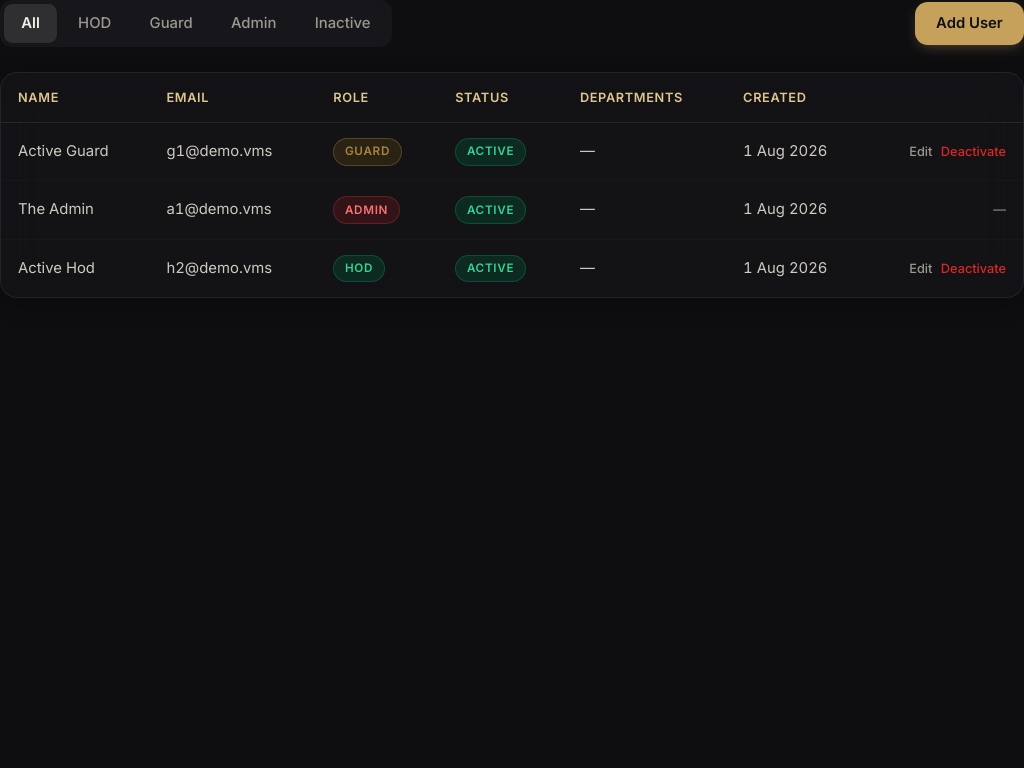
Test case: UsersTab — an inactive row always offers Reactivate › a legacy staff row offers Reactivate too, and it asks which role
Expected: the text "Active Guard" is shown, [1,123,149,181]
Click the button "Inactive" at (343, 23), box [298,4,388,43]
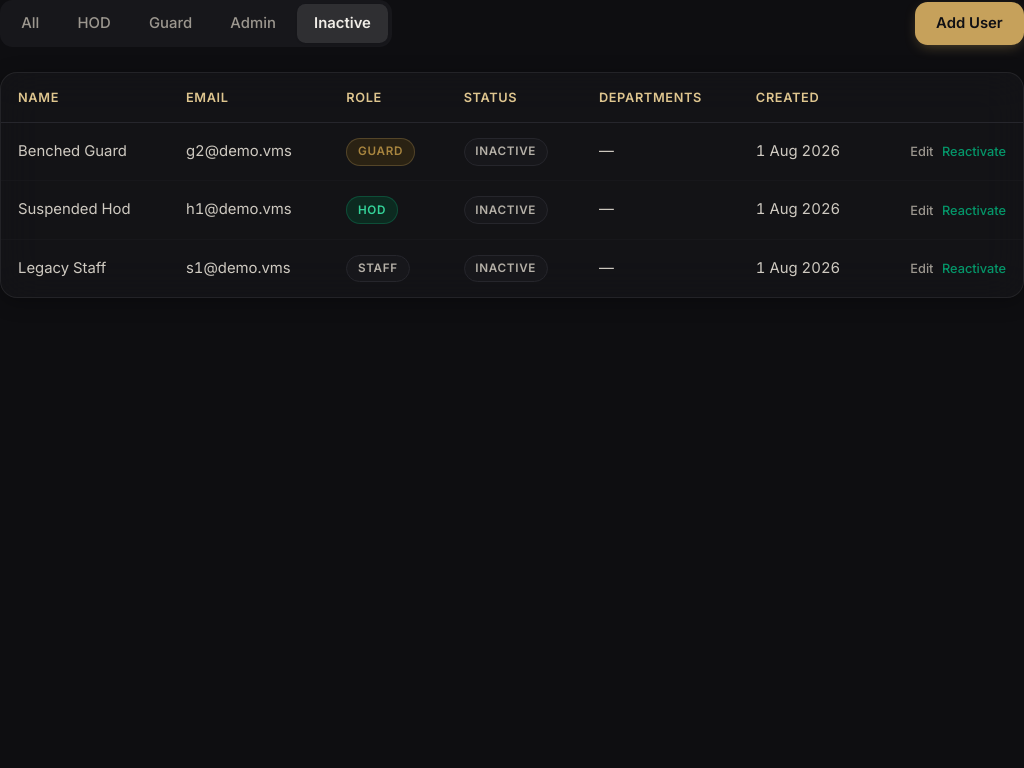
Click the button "Reactivate" in the row of "Legacy Staff" at (974, 268), box [942,260,1006,277]
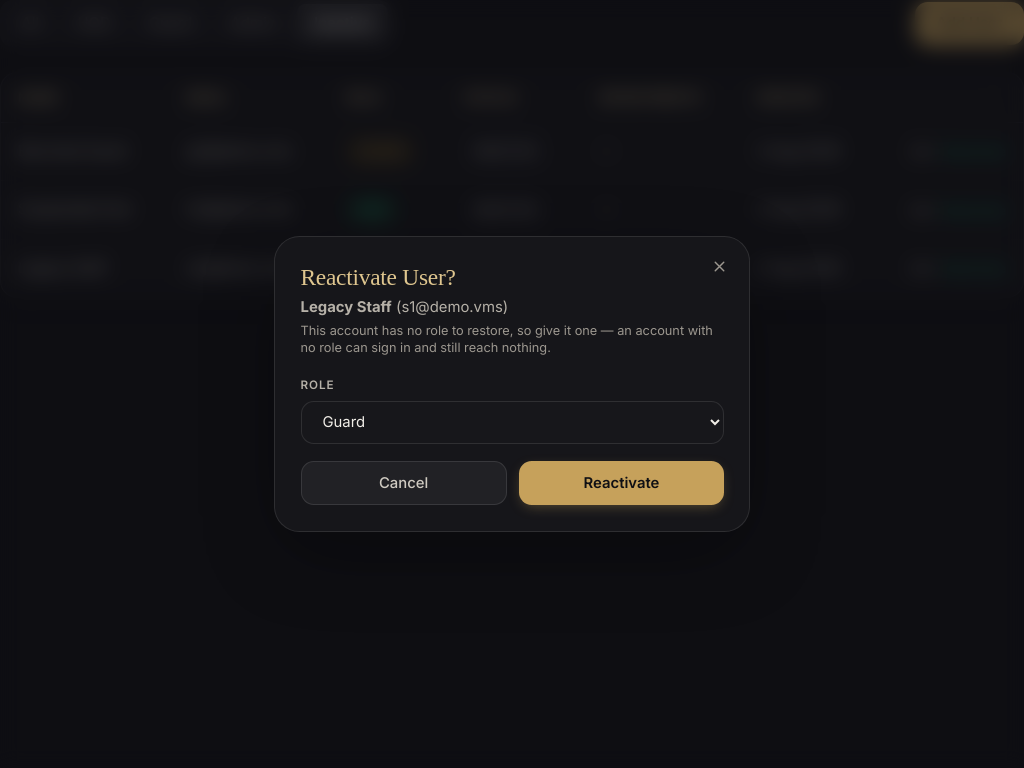
Expected: the heading "Reactivate User?" is shown, [300,264,456,290]
